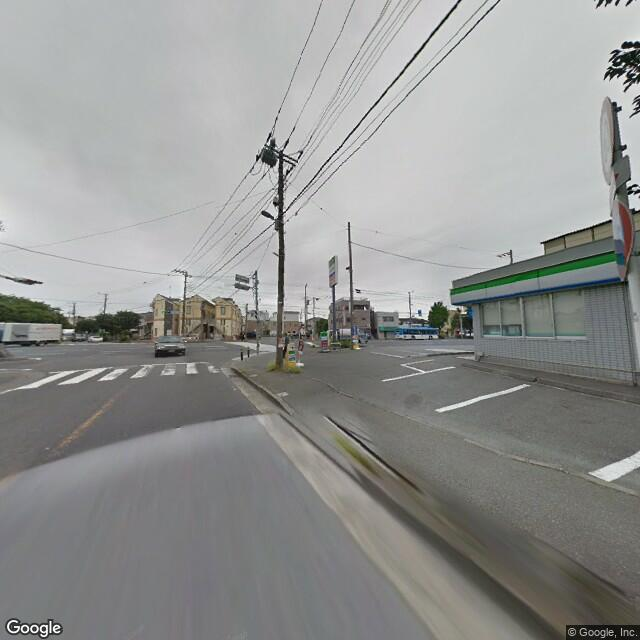family_mart: (449, 249, 619, 309)
